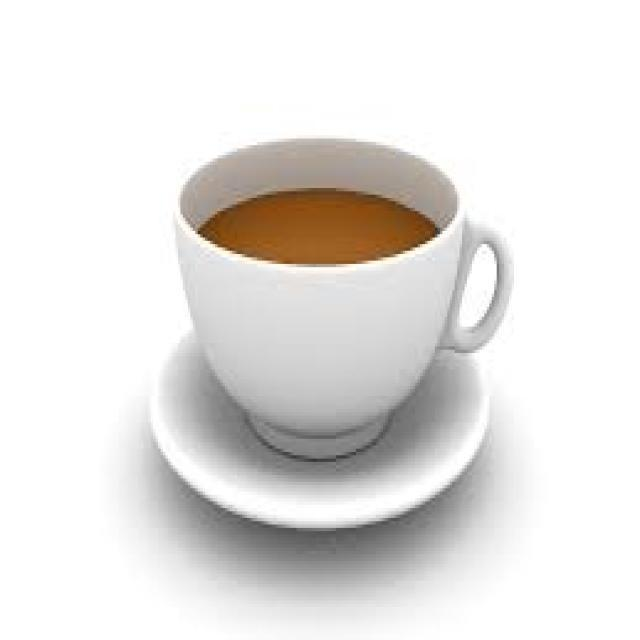taza: (171, 128, 520, 473)
